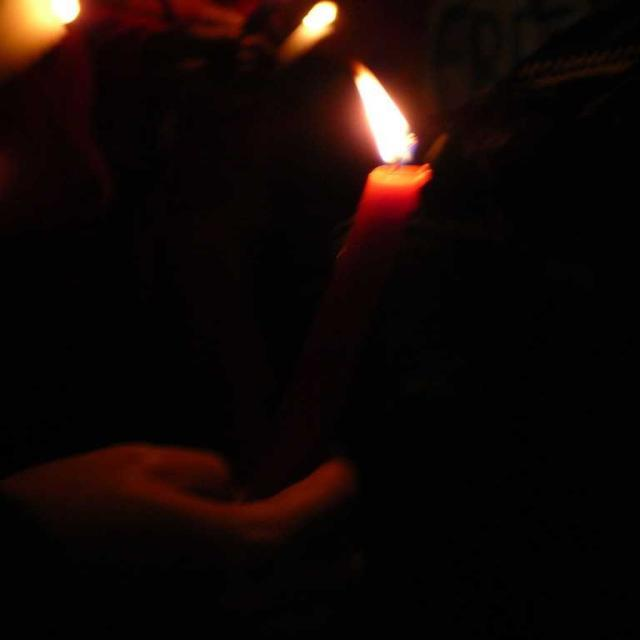Fire: (356, 66, 416, 168), (8, 3, 64, 48), (306, 5, 340, 31)
